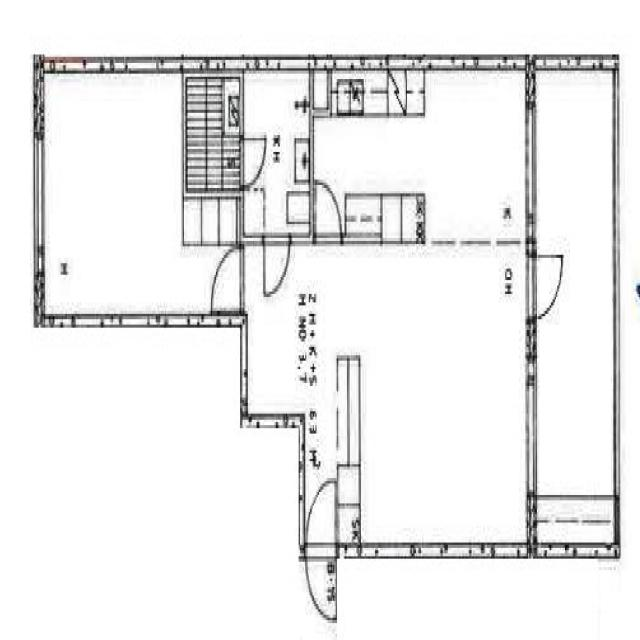door: (306, 543, 336, 623), (306, 478, 336, 558), (526, 255, 564, 317), (211, 248, 243, 312), (315, 179, 341, 242), (264, 235, 289, 298), (239, 140, 265, 187)
